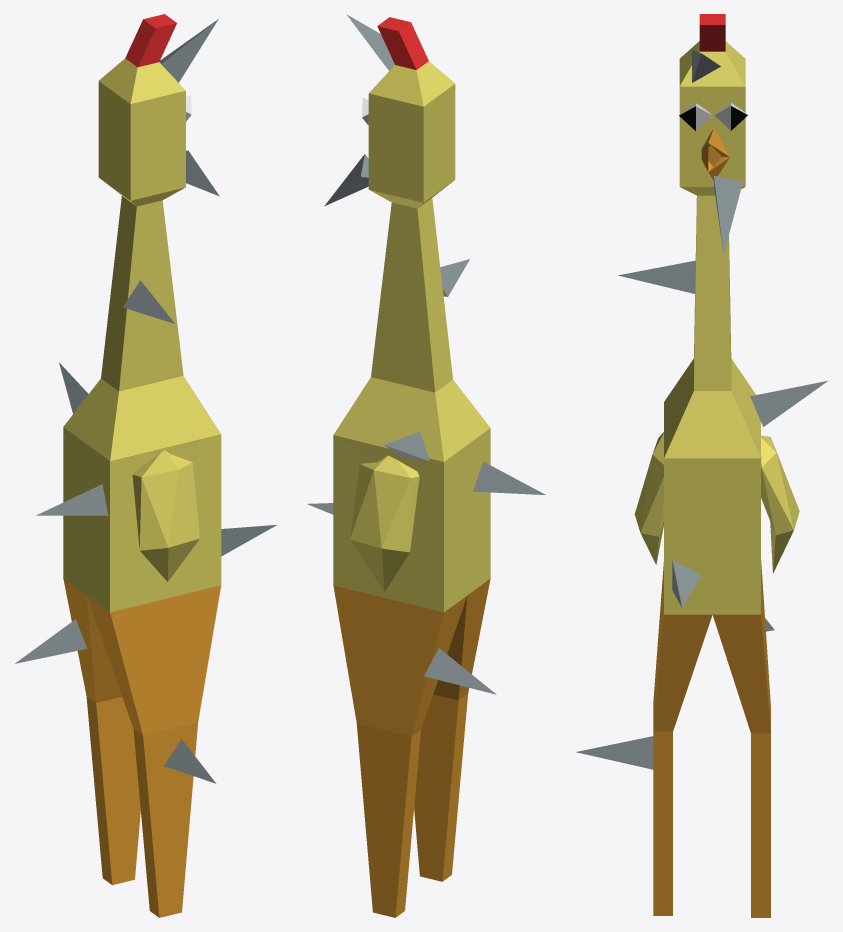
The model's file is S Rubber Chicken.fbx.
The picture shows the model from 3 angles, left to right: view 1: azimuth 30°, elevation 25°; view 2: azimuth 150°, elevation 25°; view 3: azimuth 270°, elevation 25°; orthographic projection. The views are drawn at different scales.
Parts seen in each view (by area): view 1: Spiked Rubber Chicken; view 2: Spiked Rubber Chicken; view 3: Spiked Rubber Chicken.
Part boxes in pixels (box(x1,y1,x2,y2)): Spiked Rubber Chicken: box(15, 14, 277, 917); Spiked Rubber Chicken: box(307, 14, 545, 917); Spiked Rubber Chicken: box(576, 14, 827, 917).
Size of the model in its own units: 24.4 by 84.04 by 21.4.
